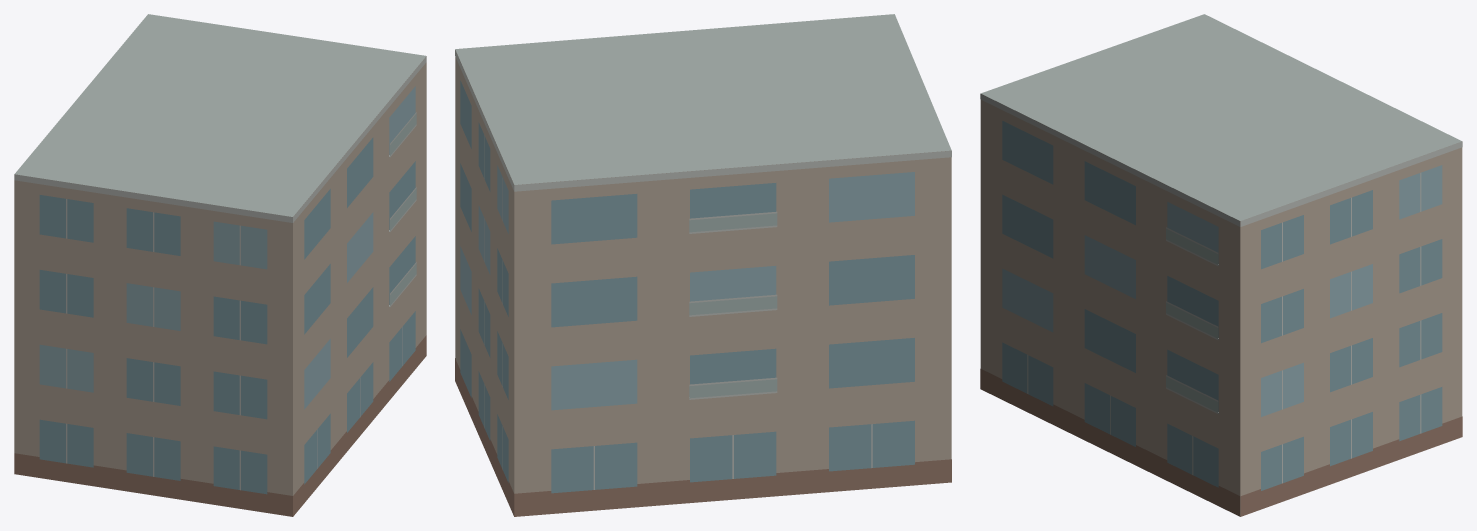
File: survey-upis-33023031.glb
The picture shows the model from 3 angles, left to right: view 1: azimuth 30°, elevation 25°; view 2: azimuth 150°, elevation 25°; view 3: azimuth 270°, elevation 25°; orthographic projection. The views are drawn at different scales.
Parts seen in each view (by area): view 1: survey-upis-33023031.tmp; view 2: survey-upis-33023031.tmp; view 3: survey-upis-33023031.tmp.
Boxes of the visible parts, x1=… form: survey-upis-33023031.tmp: x1=14, y1=14, x2=426, y2=516; survey-upis-33023031.tmp: x1=455, y1=14, x2=951, y2=516; survey-upis-33023031.tmp: x1=980, y1=14, x2=1462, y2=516.
Size of the model in its own units: 18.27 by 12.15 by 17.95.
